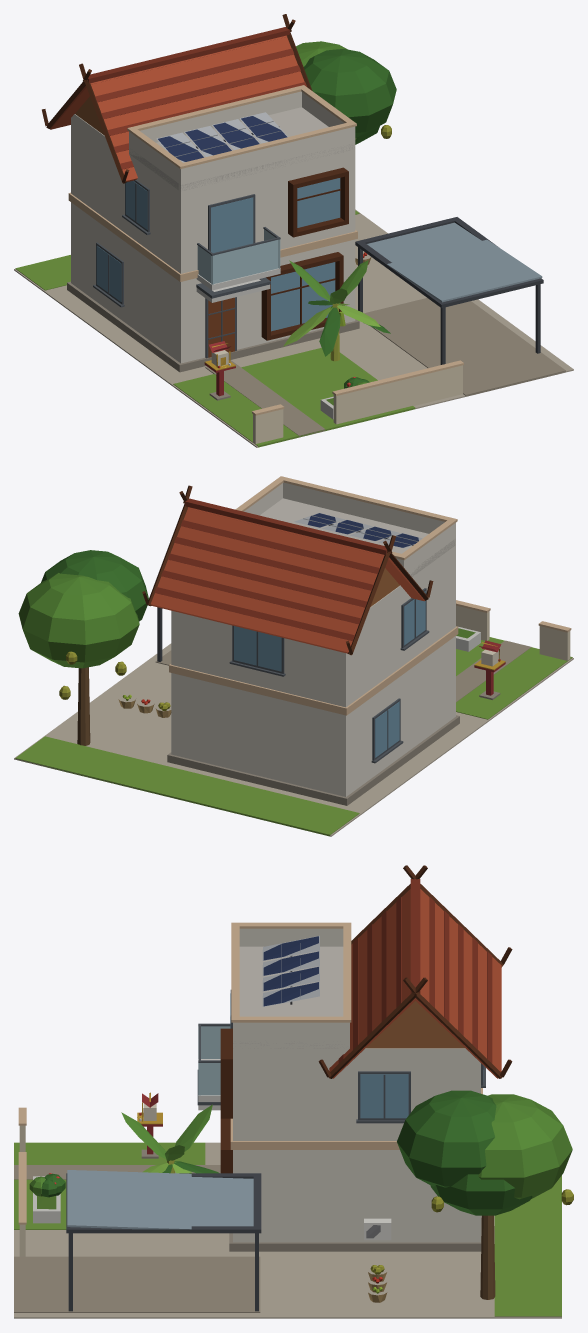
File: house12_1.glb
3 renders of one model, top to bottom at view 1: azimuth 30°, elevation 25°; view 2: azimuth 150°, elevation 25°; view 3: azimuth 270°, elevation 25°, orthographic. The views are drawn at different scales.
Visible parts, largest first — view 1: body; view 2: body; view 3: body.
Part boxes in pixels (x1,y1,x2,y2): body: [14, 14, 573, 447]; body: [14, 476, 573, 836]; body: [14, 865, 573, 1318].
Bounding box in the file's own units: 12.53 × 9.06 × 16.25.
